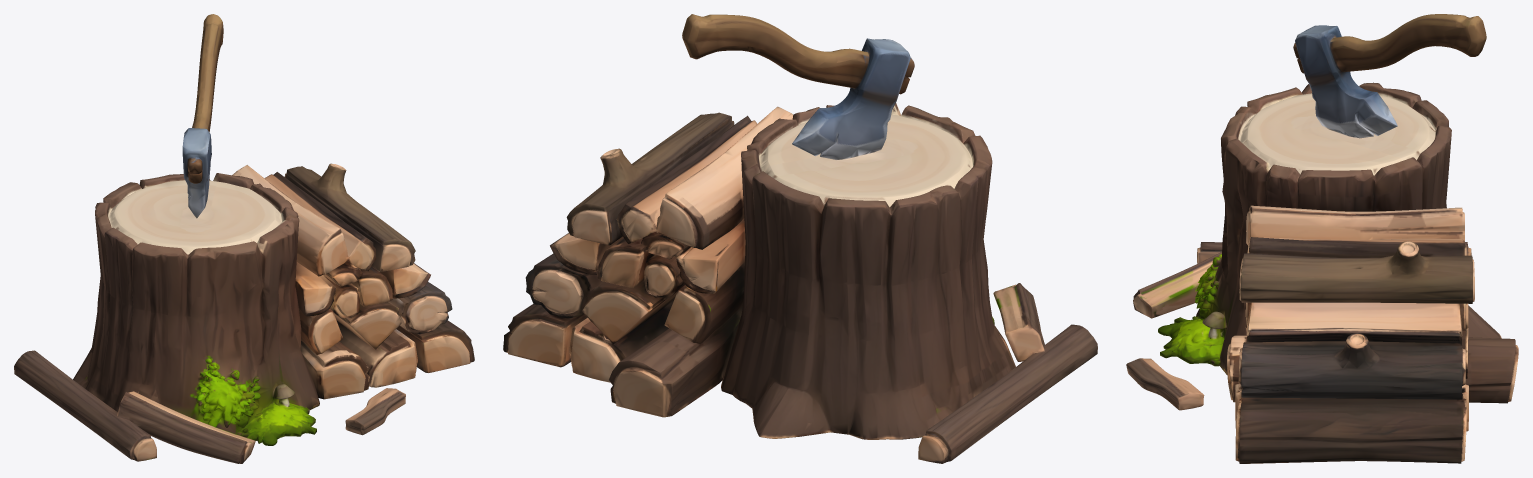
The model's file is woodpile-chop.glb.
3 renders of one model, left to right at view 1: azimuth 30°, elevation 25°; view 2: azimuth 150°, elevation 25°; view 3: azimuth 270°, elevation 25°, orthographic. The views are drawn at different scales.
Visible parts, largest first — view 1: node_0; view 2: node_0; view 3: node_0.
Boxes of the visible parts, left/top/right/bottom form: node_0: left=14, top=14, right=474, bottom=463; node_0: left=503, top=14, right=1097, bottom=463; node_0: left=1126, top=14, right=1518, bottom=463.
Size of the model in its own units: 0.8474 by 0.7007 by 0.6912.
Materials: 1 (1 with a texture image).
